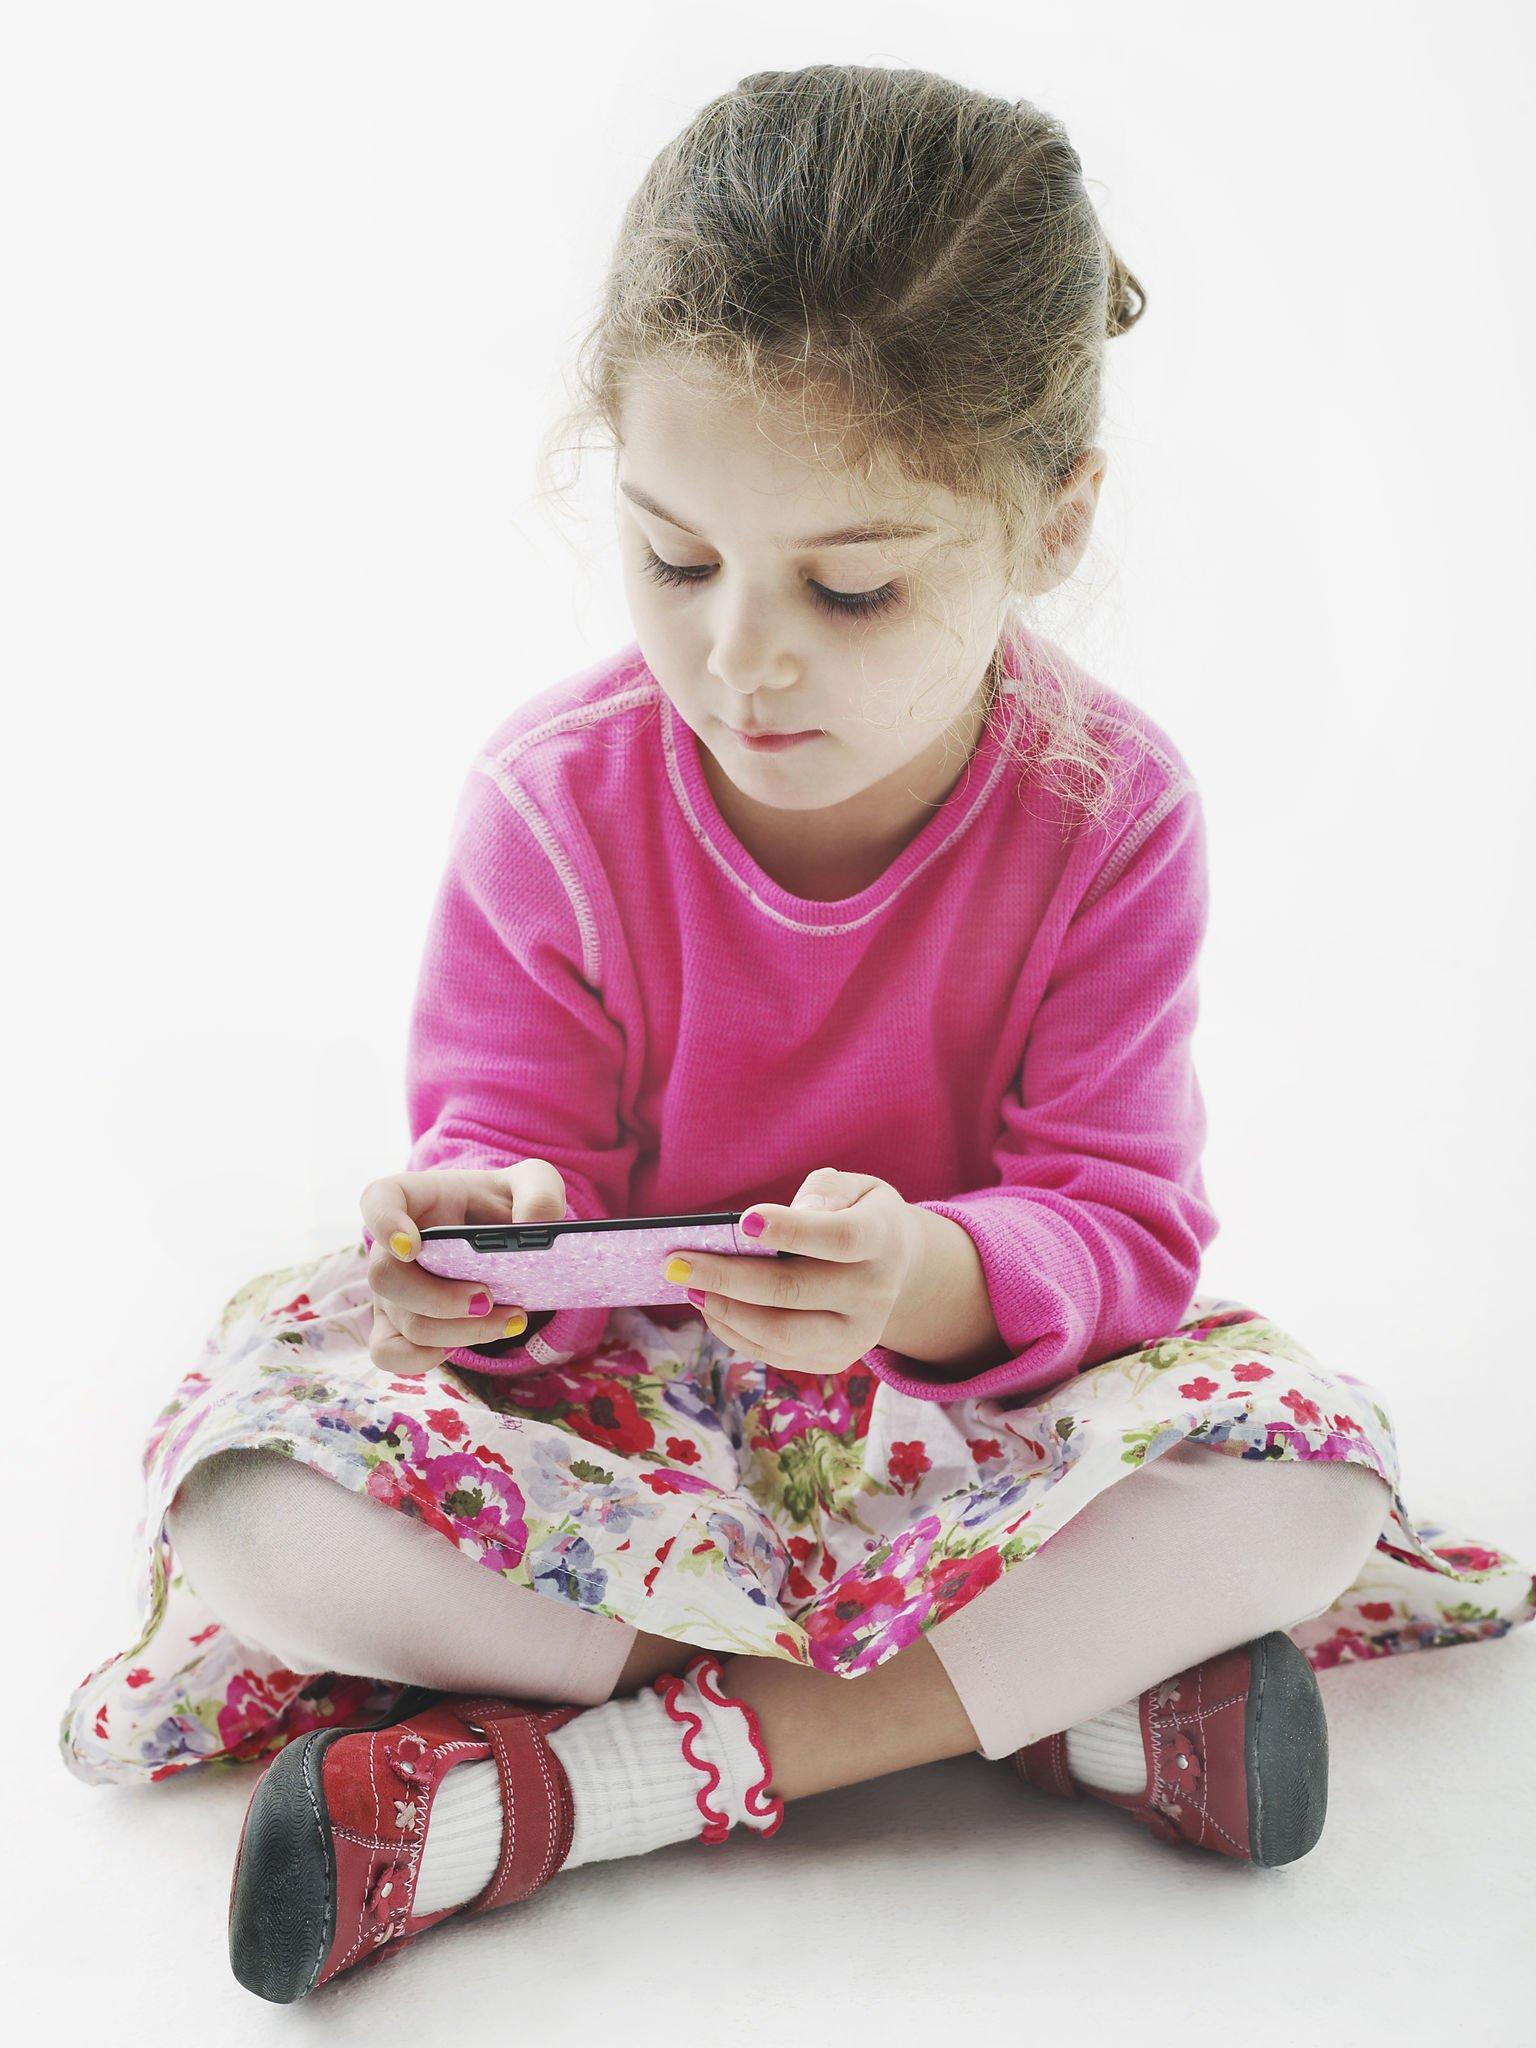Healthy: (561, 277, 1007, 835)
